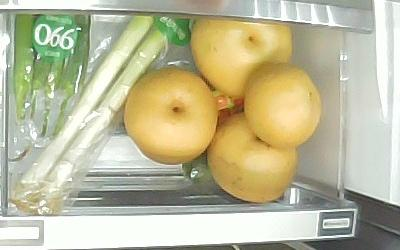pear: (123, 66, 219, 165), (190, 16, 293, 99), (208, 111, 298, 202), (244, 62, 322, 149)
